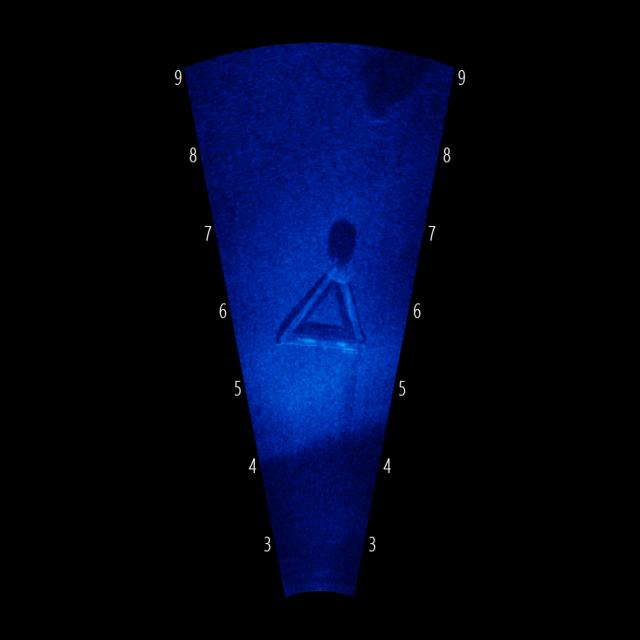triangle: (270, 248, 380, 356)
